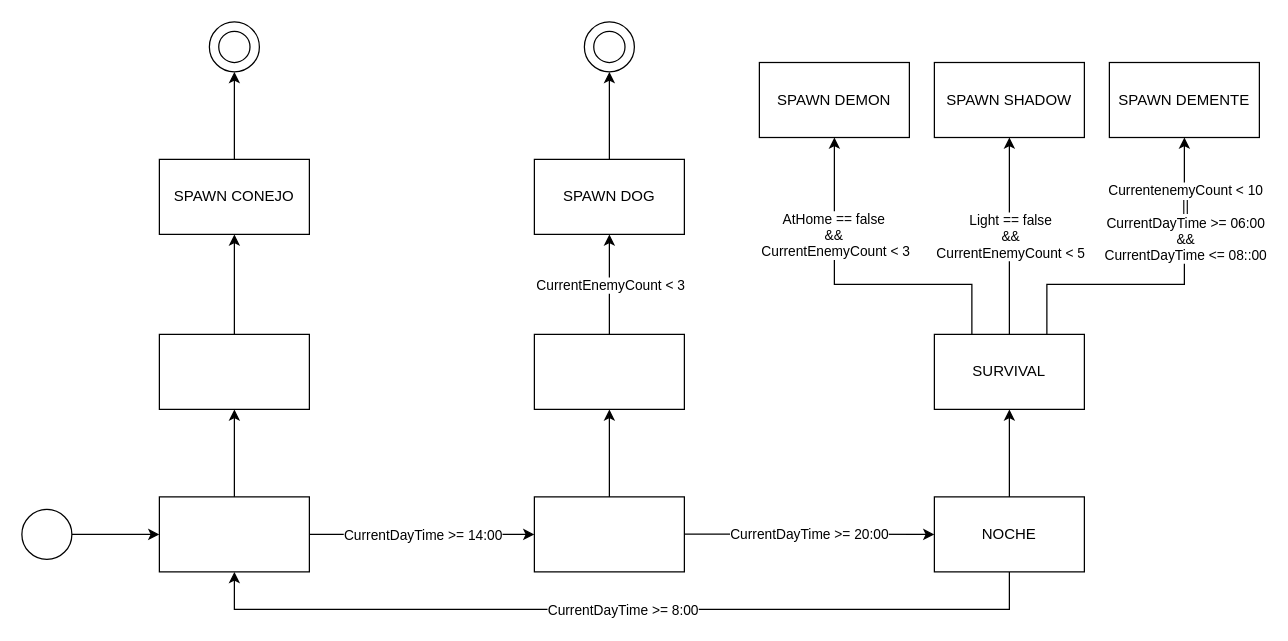
This 1288x641 diagram has some shape labels left out. The shapes that lost their labels are listed below. From the top down, each one's box as (x1, y1, x2, y2) in pixels, then its label:
(158, 333, 309, 409): REPOSO
(533, 333, 684, 409): TENSION
(158, 496, 309, 572): MAÑANA
(533, 496, 684, 572): TARDE
